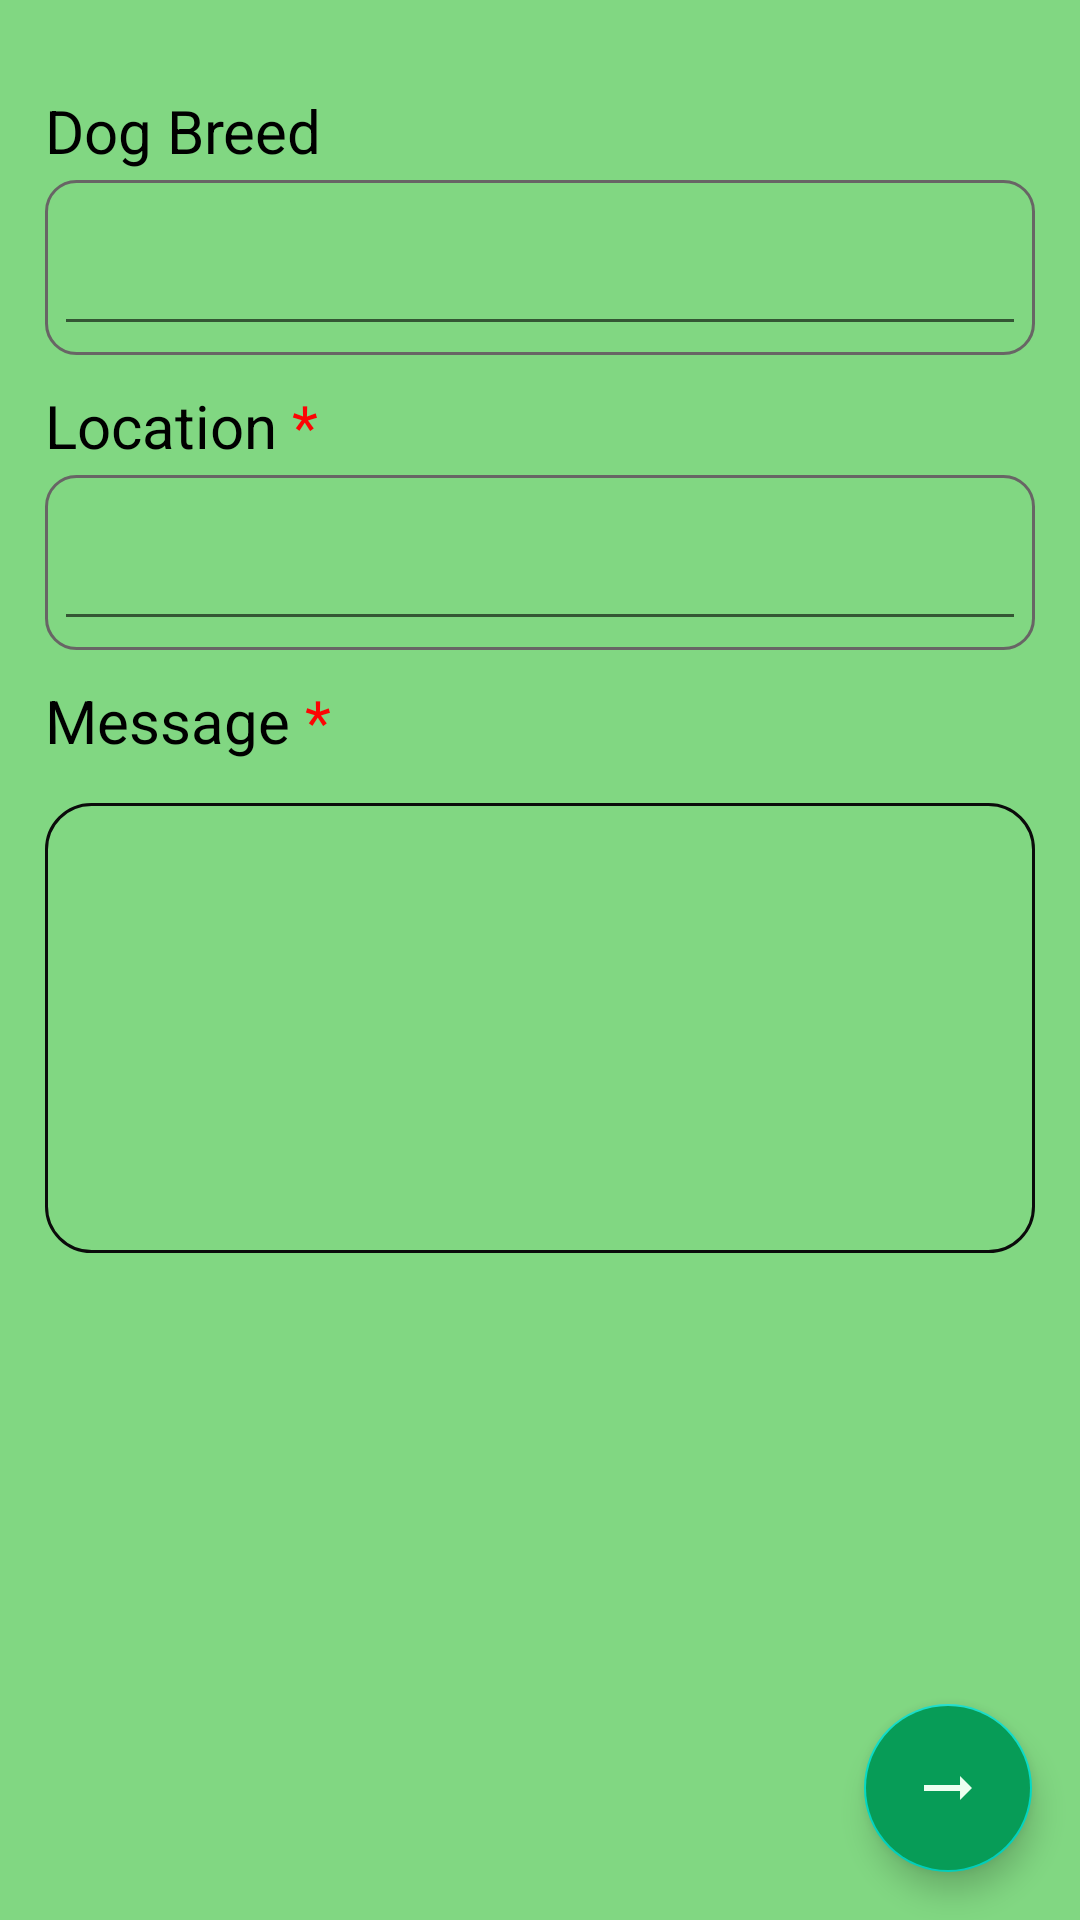

Locate icon controls on the screen. Image size 1080 × 1920, boxes as (left=x1, top=y1, right=x2, bottom=y2).
submit: (left=864, top=1704, right=1032, bottom=1872)
